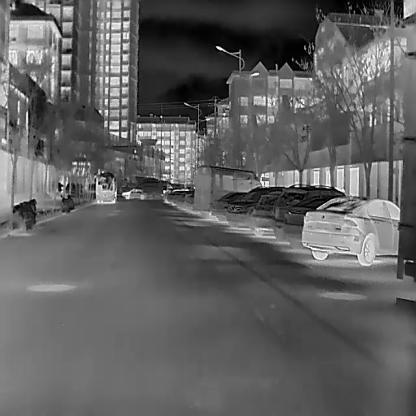car: (302, 198, 401, 266), (269, 182, 345, 240), (193, 164, 263, 215), (286, 196, 347, 251), (226, 184, 277, 231), (249, 186, 290, 237), (213, 193, 244, 221), (93, 172, 115, 203), (132, 178, 161, 200), (120, 188, 149, 200)
